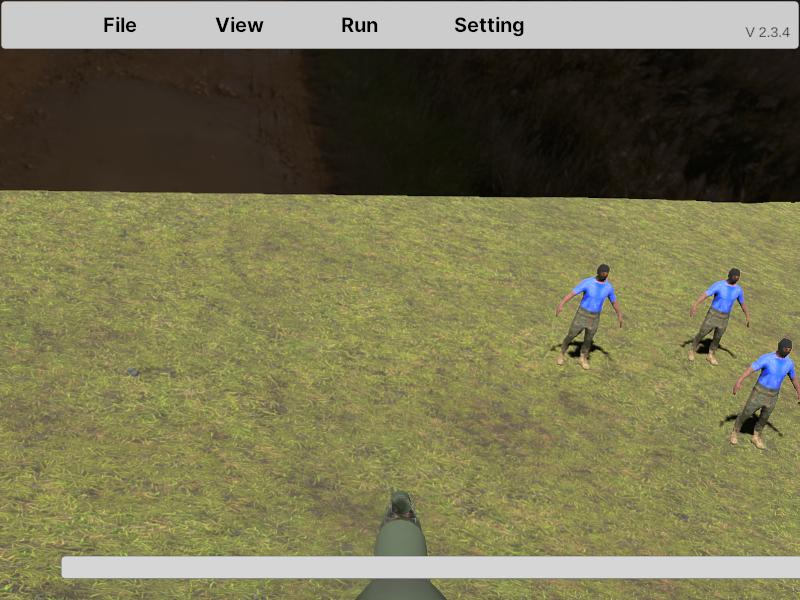Human: (729, 338, 800, 450), (556, 263, 622, 370), (687, 267, 749, 366)
